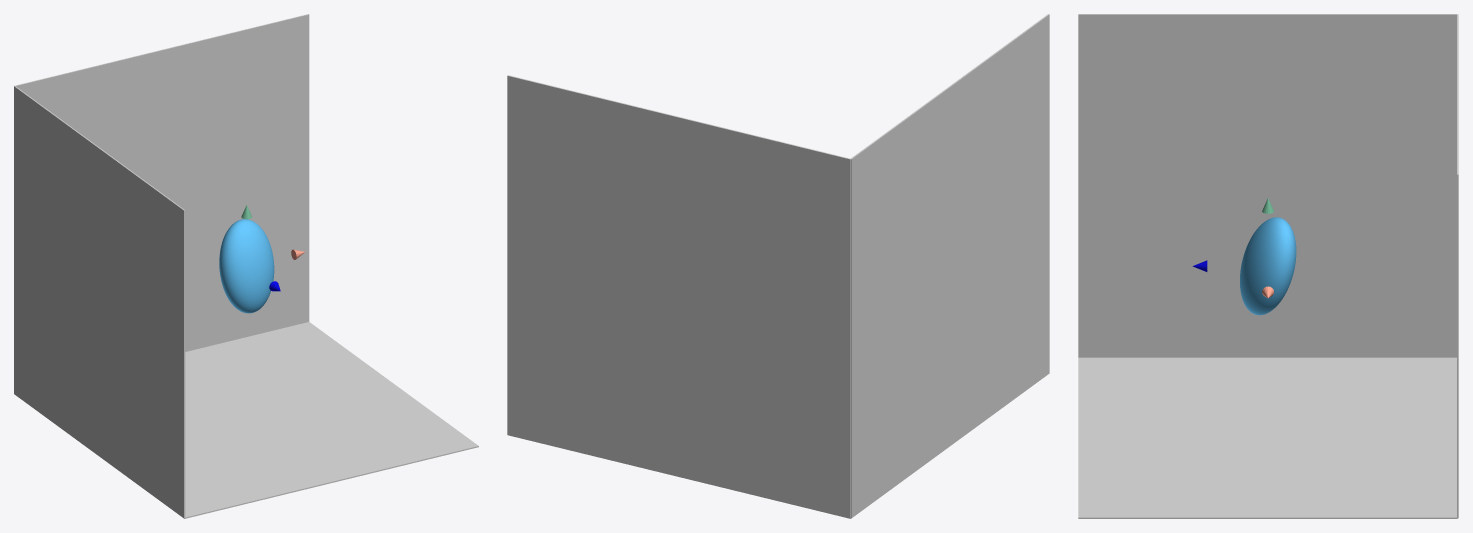
Rendered from fig8_8a.gltf.
3 views of the same model, side by side, from view 1: azimuth 30°, elevation 25°; view 2: azimuth 150°, elevation 25°; view 3: azimuth 270°, elevation 25° (orthographic). The views are drawn at different scales.
Visible parts, largest first — view 1: Renderer Node; view 2: Renderer Node; view 3: Renderer Node.
Boxes of the visible parts, bbox=[...] form: Renderer Node: bbox=[14, 14, 478, 518]; Renderer Node: bbox=[507, 14, 1049, 518]; Renderer Node: bbox=[1078, 14, 1458, 518].
Size of the model in its own units: 5.01 by 5.01 by 5.01.
